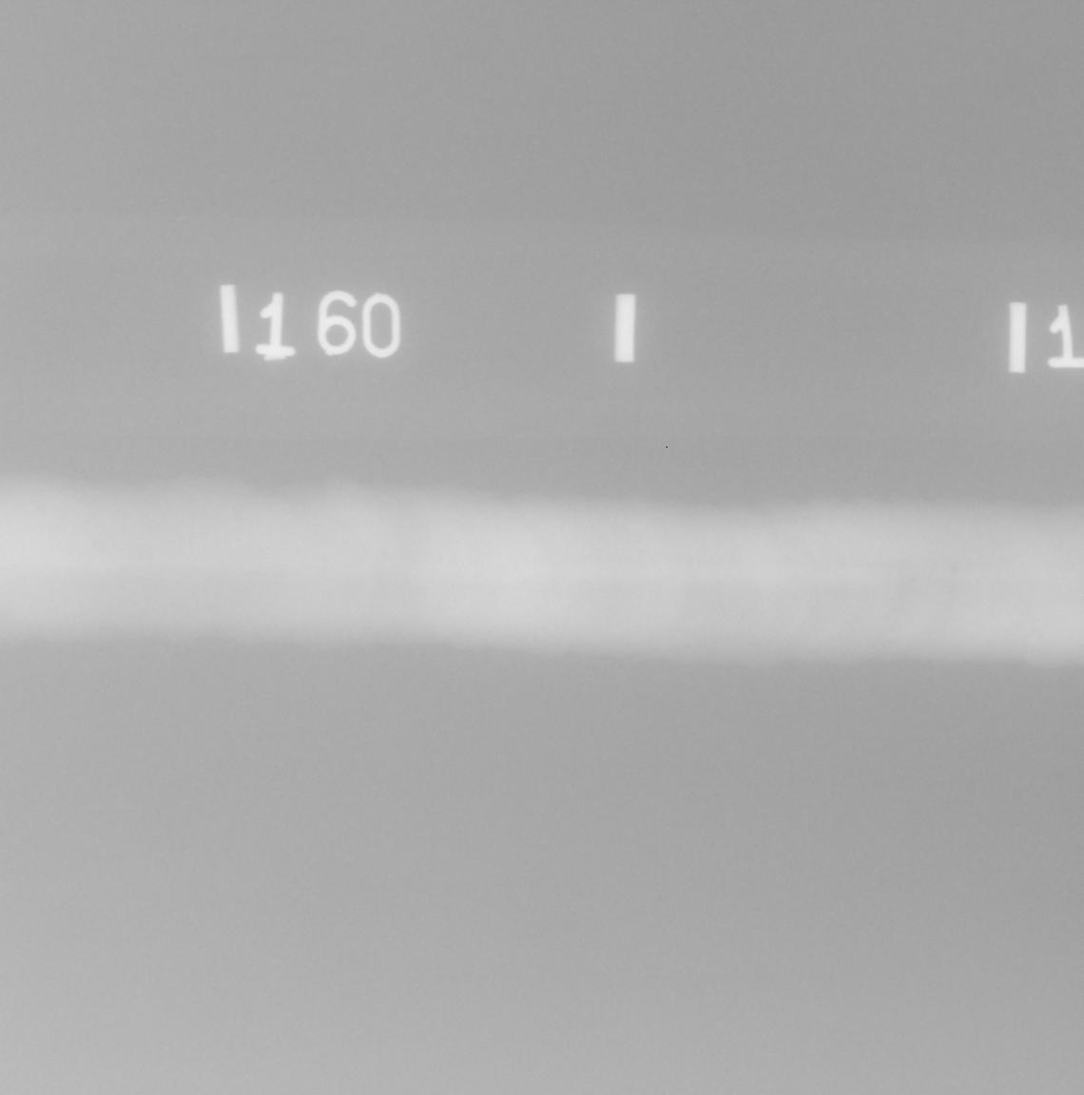Pore/Porosity: (381, 550, 389, 557), (952, 567, 957, 573)
